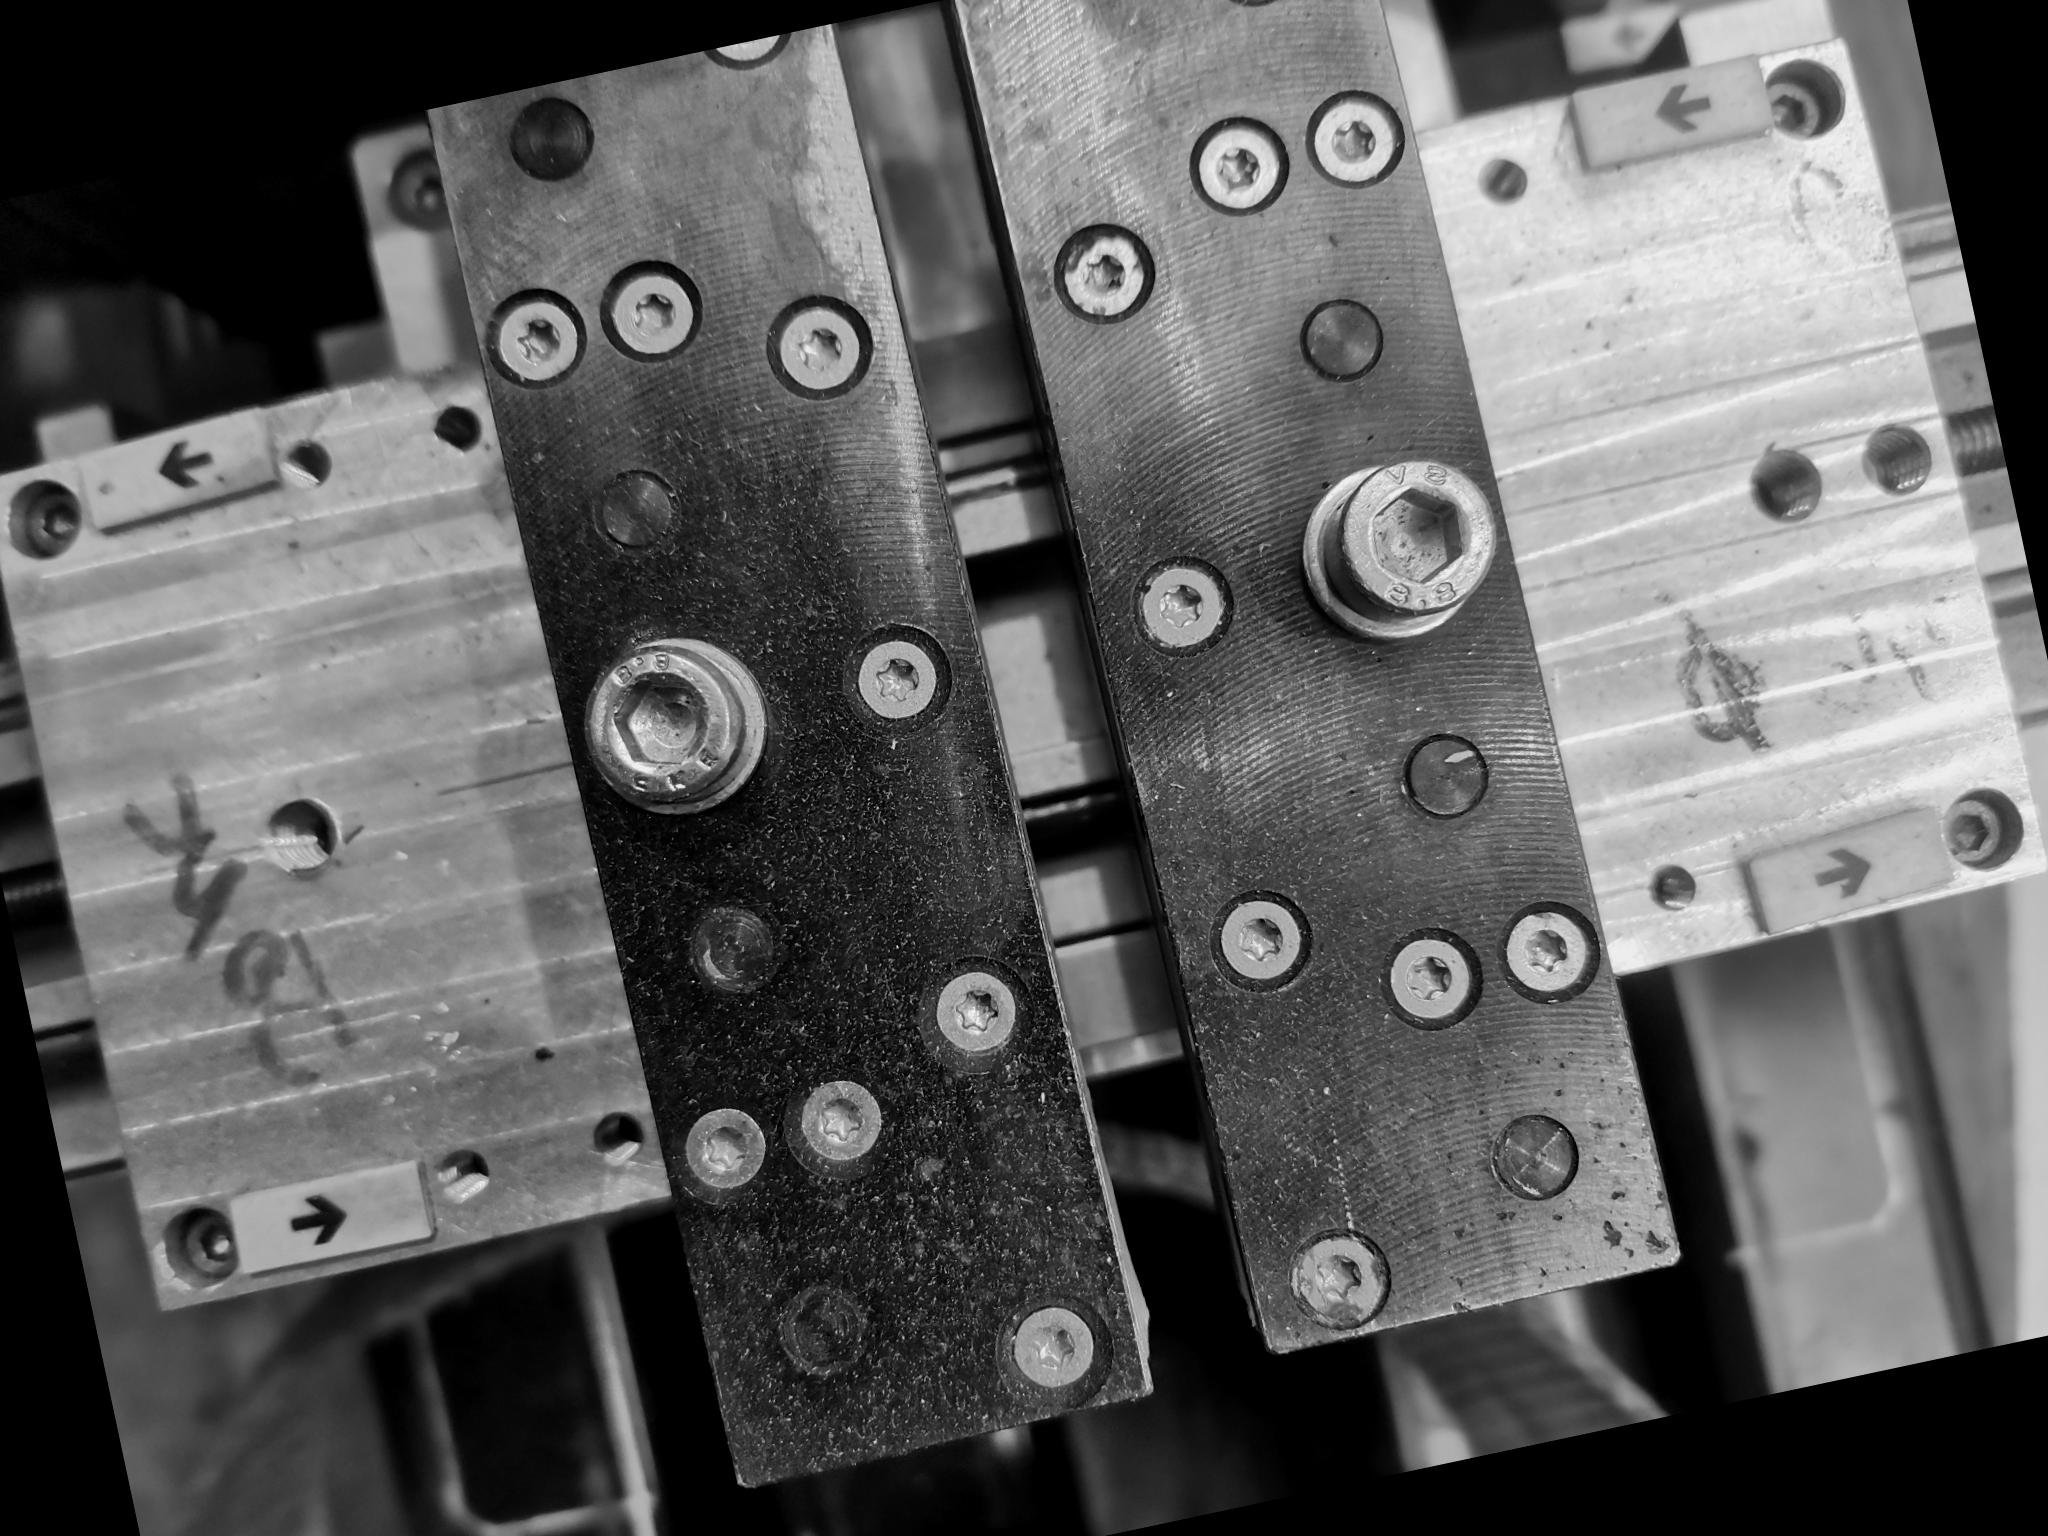allen: (1280, 432, 1526, 671), (561, 608, 795, 844), (1935, 779, 2043, 886), (1751, 47, 1858, 152), (150, 1192, 250, 1304)
torx: (821, 600, 974, 757), (737, 273, 895, 423), (979, 1271, 1132, 1423), (1032, 202, 1174, 345), (1114, 537, 1256, 681), (1192, 873, 1334, 1015), (582, 239, 719, 381), (1364, 908, 1501, 1050), (1169, 97, 1306, 234), (468, 263, 601, 402), (1480, 884, 1616, 1020), (1272, 1212, 1406, 1347), (1288, 79, 1421, 203), (911, 945, 1037, 1071), (784, 1062, 895, 1175), (671, 1094, 779, 1200)
